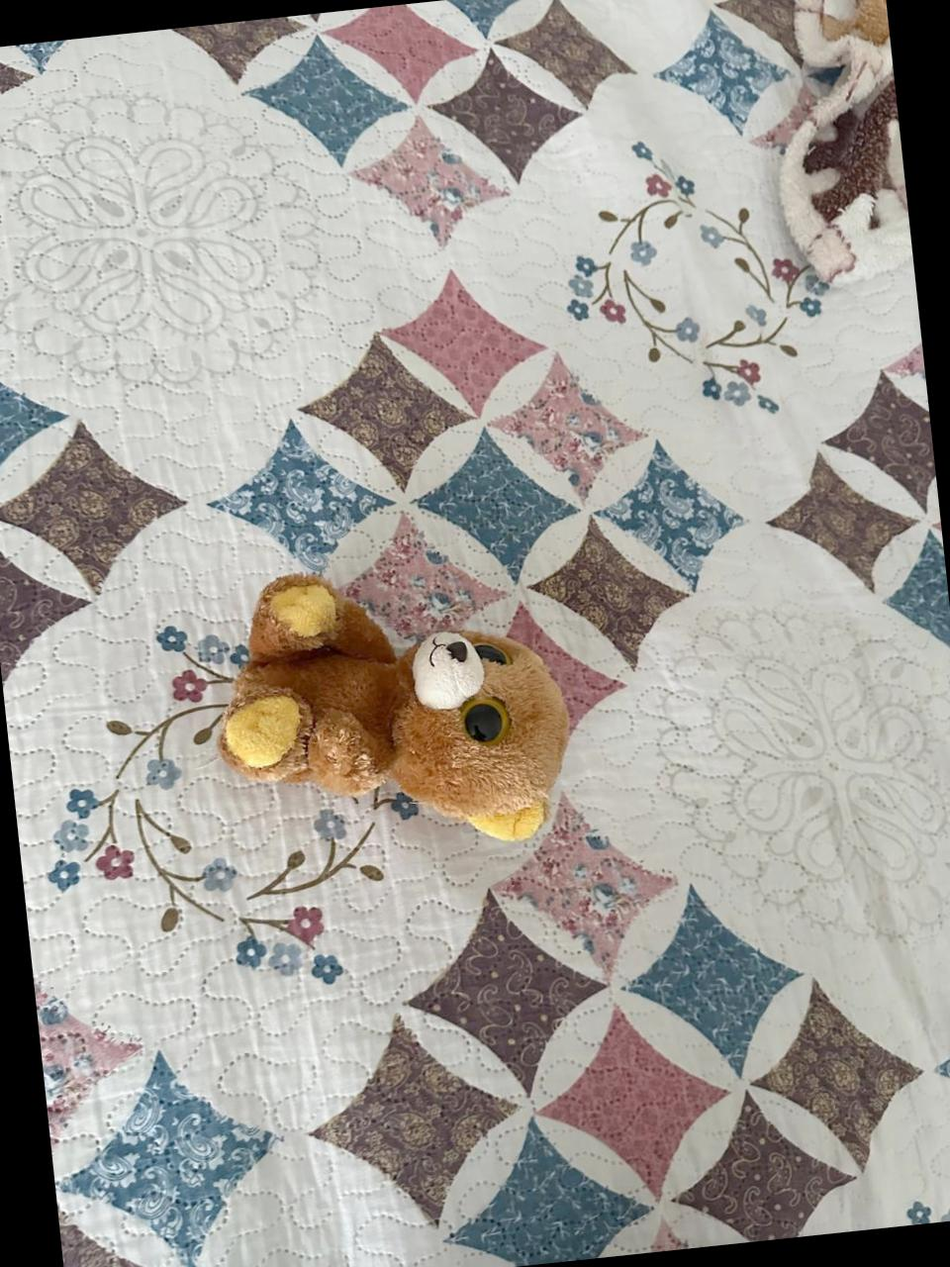peluche_sebastian: (195, 535, 594, 881)
